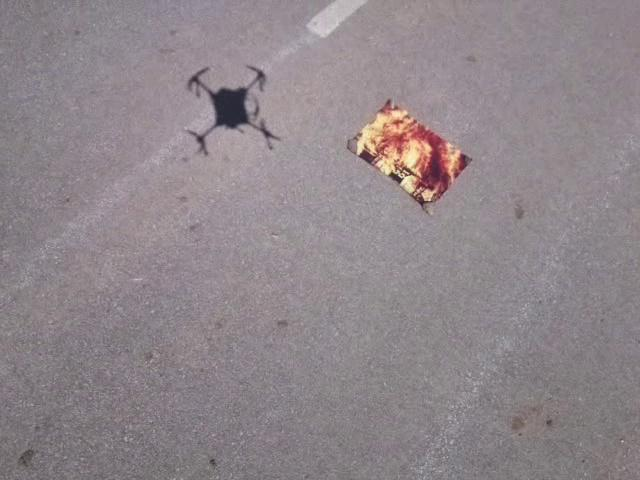fire-poster: (345, 96, 473, 215)
